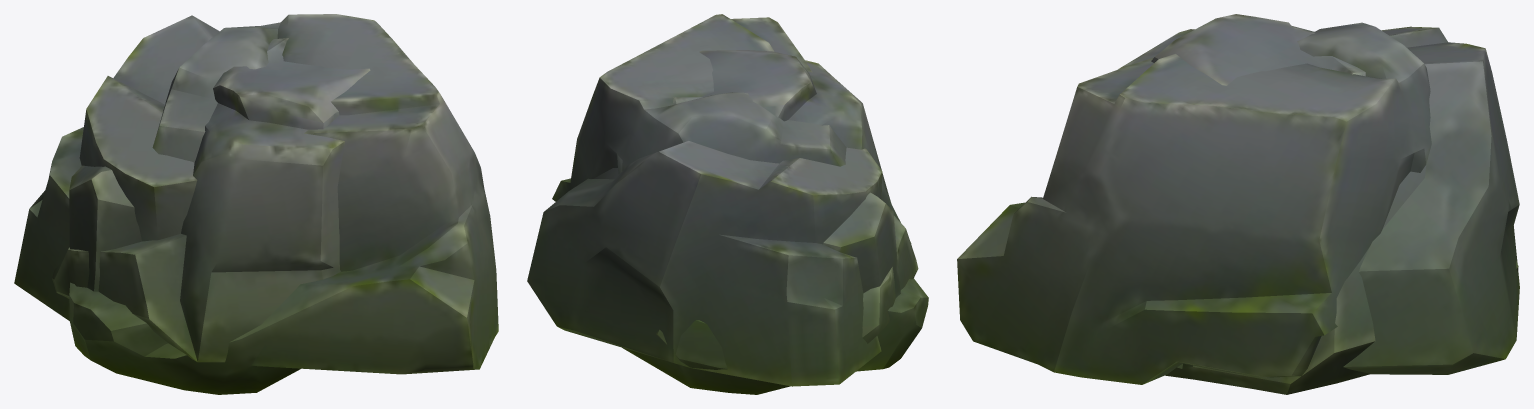
Rendered from rocks.glb.
The picture shows the model from 3 angles, left to right: view 1: azimuth 30°, elevation 25°; view 2: azimuth 150°, elevation 25°; view 3: azimuth 270°, elevation 25°; orthographic projection. The views are drawn at different scales.
Visible parts, largest first — view 1: Rock_Medium_3, Rock_Medium_1, Rock_Medium_2; view 2: Rock_Medium_2, Rock_Medium_3, Rock_Medium_1; view 3: Rock_Medium_3, Rock_Medium_2, Rock_Medium_1.
Part boxes in pixels (<box>): Rock_Medium_3: <box>69,14,498,394</box>; Rock_Medium_1: <box>52,38,370,362</box>; Rock_Medium_2: <box>14,15,219,320</box>; Rock_Medium_2: <box>527,141,882,386</box>; Rock_Medium_3: <box>552,14,928,371</box>; Rock_Medium_1: <box>573,50,918,394</box>; Rock_Medium_3: <box>957,22,1431,384</box>; Rock_Medium_2: <box>1343,26,1519,374</box>; Rock_Medium_1: <box>1118,14,1518,394</box>.
Size of the model in its own units: 3.42 by 2.32 by 3.74.
Materials: 2 (2 with a texture image).
